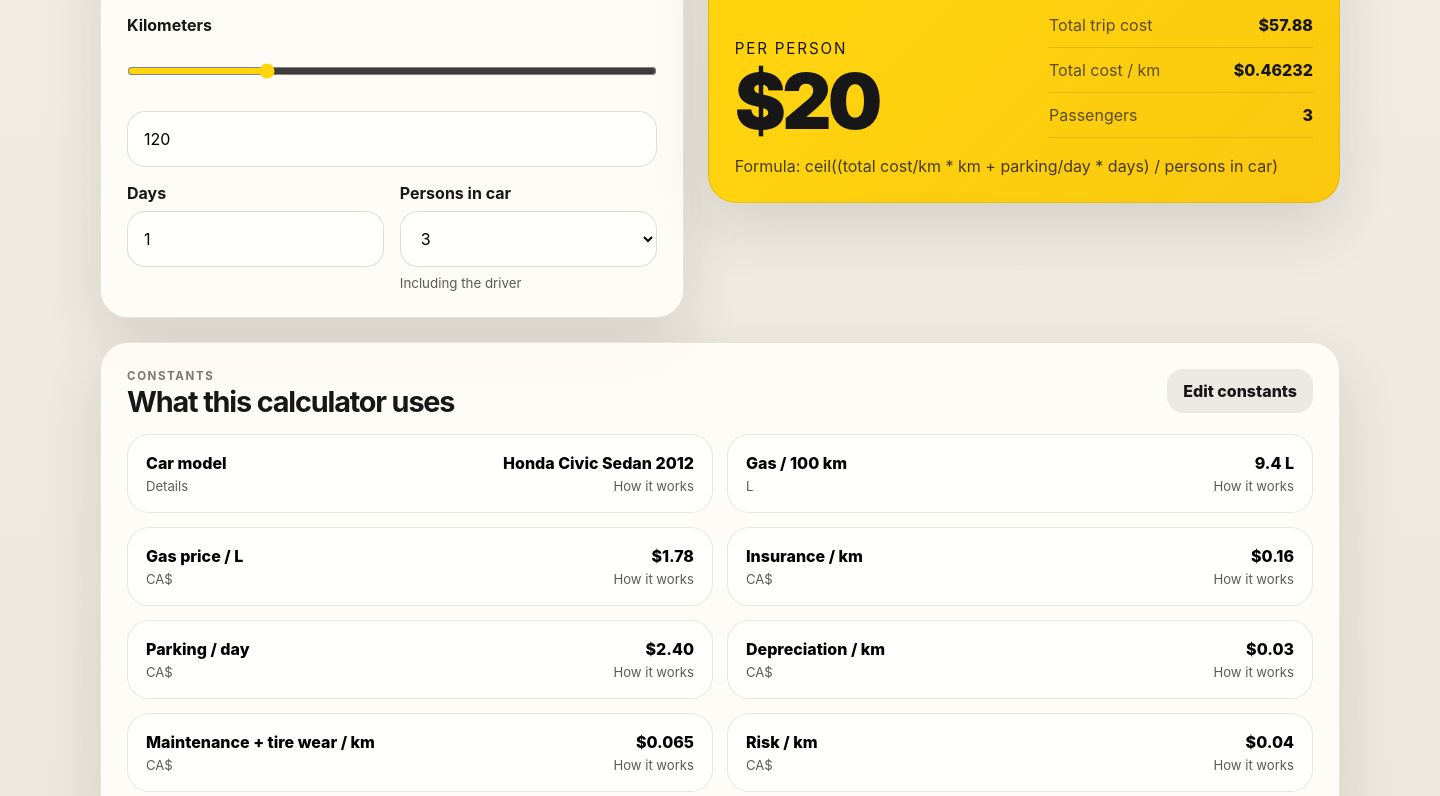
Test: App › keeps the admin sign up CTA visible for signed-in non-admin users
(page scrolled)
Click the button "Edit constants" at [1240, 391], box [1167, 369, 1313, 413]
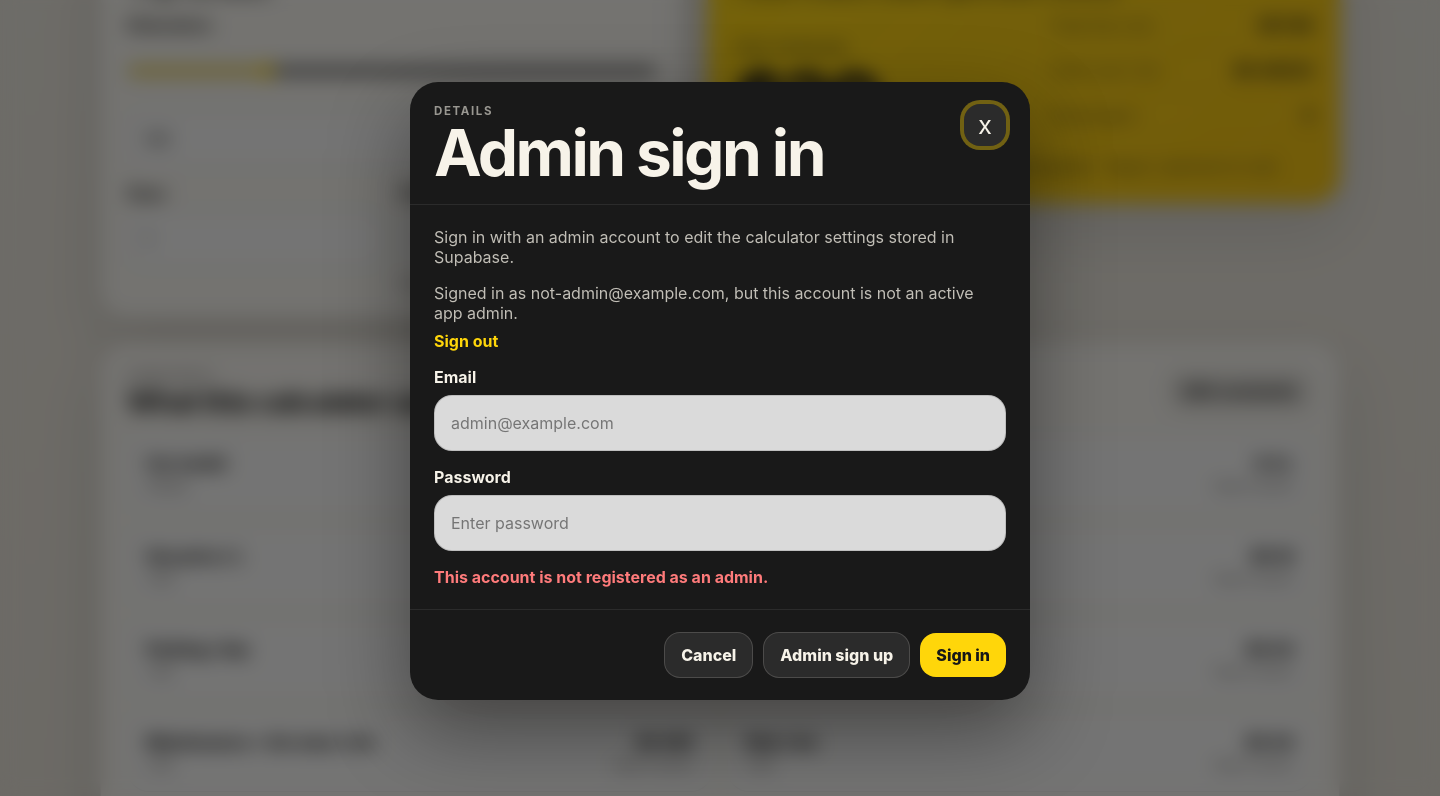
Result: the button "Admin sign up" is shown at [763, 632, 910, 678]
Result: the button "Sign out" is shown at [434, 331, 498, 351]
Result: the text "Signed in as not-admin@example.com, but this account is not an active app admin." is shown at [434, 283, 1006, 323]
